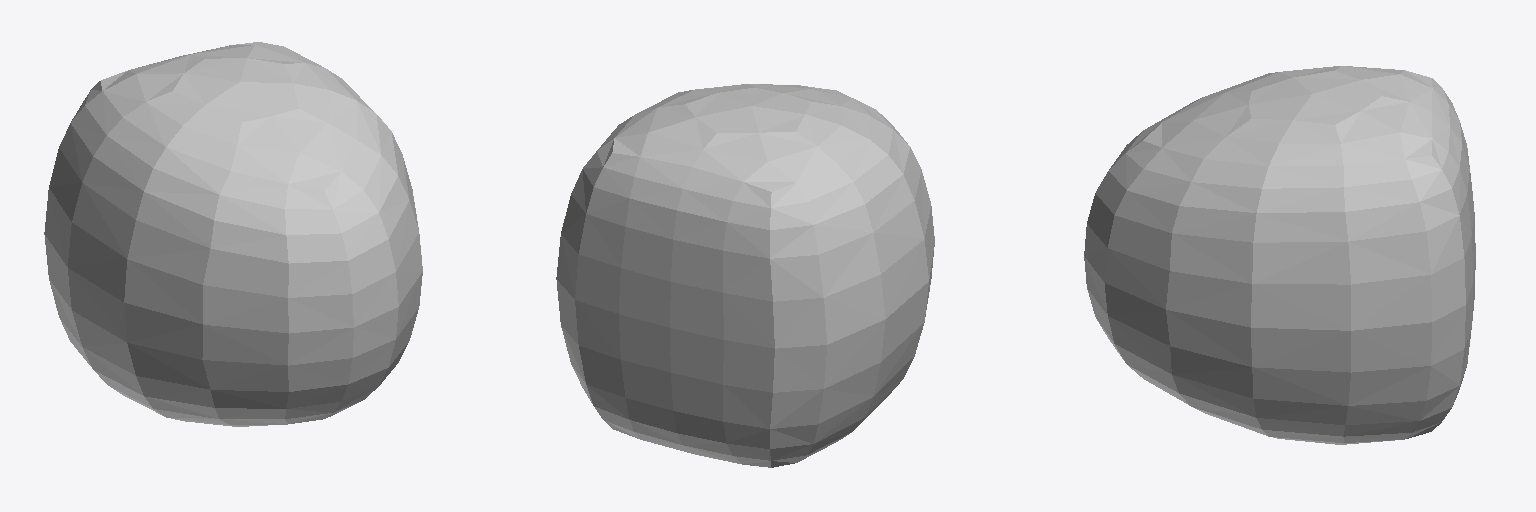
Rendered from glow1a.obj.
3 renders of one model, left to right at view 1: azimuth 30°, elevation 25°; view 2: azimuth 150°, elevation 25°; view 3: azimuth 270°, elevation 25°, orthographic.
Visible parts, largest first — view 1: Part1; view 2: Part1; view 3: Part1.
Part boxes in pixels (bbox=[...]): Part1: bbox=[44, 42, 422, 426]; Part1: bbox=[556, 84, 934, 467]; Part1: bbox=[1084, 66, 1475, 444].
Size of the model in its own units: 140 by 142 by 155.